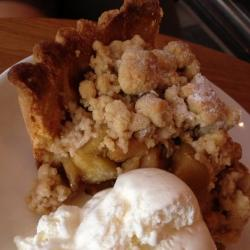apple_pie: (16, 6, 241, 205)
icecream: (14, 174, 221, 250)
